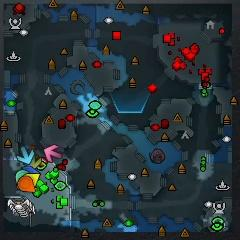p1: (22, 166, 40, 174)
p2: (15, 170, 29, 184)
p4: (23, 174, 40, 187)
p5: (18, 176, 36, 193)
x1: (44, 145, 61, 162)
x2: (30, 157, 42, 169)
x3: (18, 146, 34, 163)
x5: (28, 145, 38, 159)
